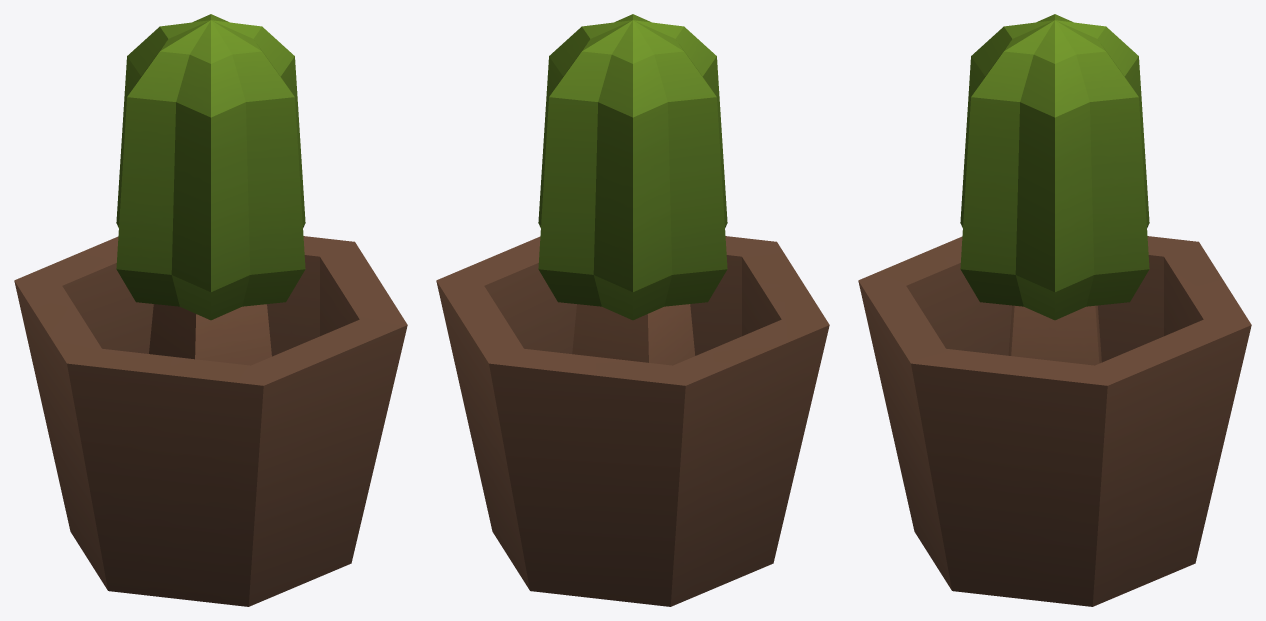
File: tree.fbx
3 views of the same model, side by side, from view 1: azimuth 30°, elevation 25°; view 2: azimuth 150°, elevation 25°; view 3: azimuth 270°, elevation 25° (orthographic).
Visible parts, largest first — view 1: polySurface20; view 2: polySurface20; view 3: polySurface20.
Part boxes in pixels (bbox=[...]): polySurface20: bbox=[14, 14, 407, 606]; polySurface20: bbox=[436, 14, 829, 606]; polySurface20: bbox=[858, 14, 1251, 606].
Bounding box in the file's own units: 2.76 × 4.09 × 2.76.
